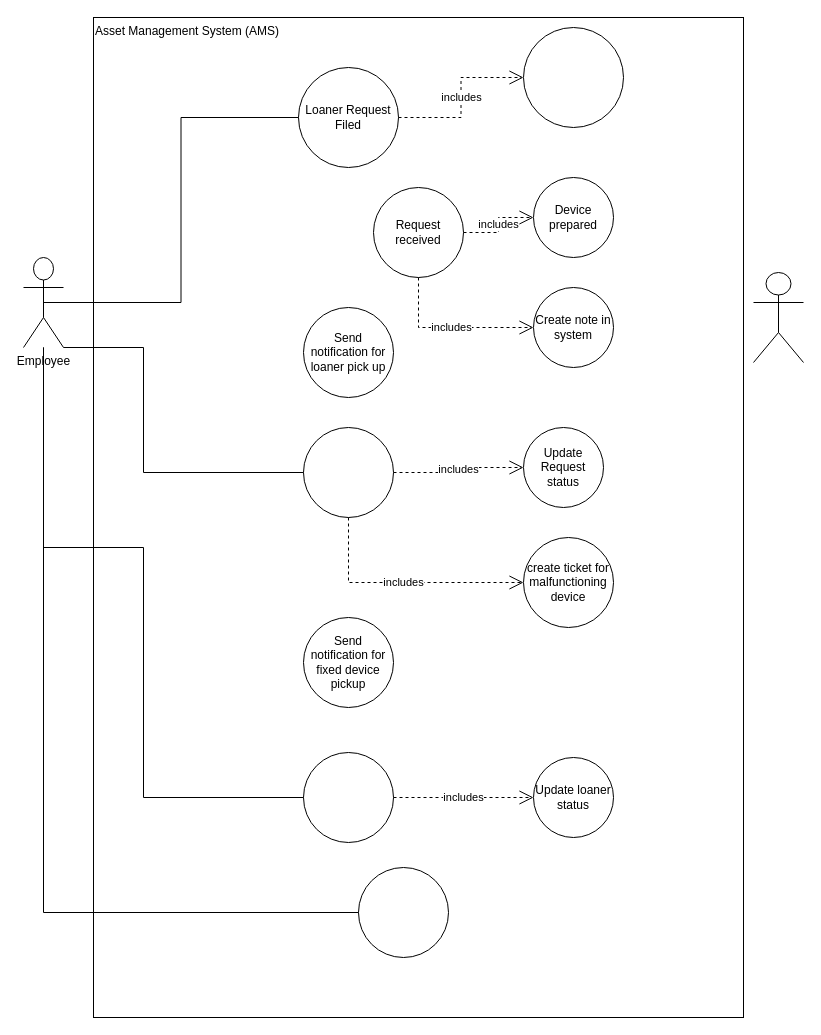
This 821x1035 diagram has some shape labels left out. The centre of each missing label's shape, as x and y in pixels:
"device chosen from inventory" belongs at (x=573, y=77).
"Pick up fixed device" belongs at (x=403, y=912).
"Return loaner device" belongs at (x=348, y=797).
"Return malfunctioning device" belongs at (x=348, y=472).
"Staff" belongs at (x=778, y=317).
